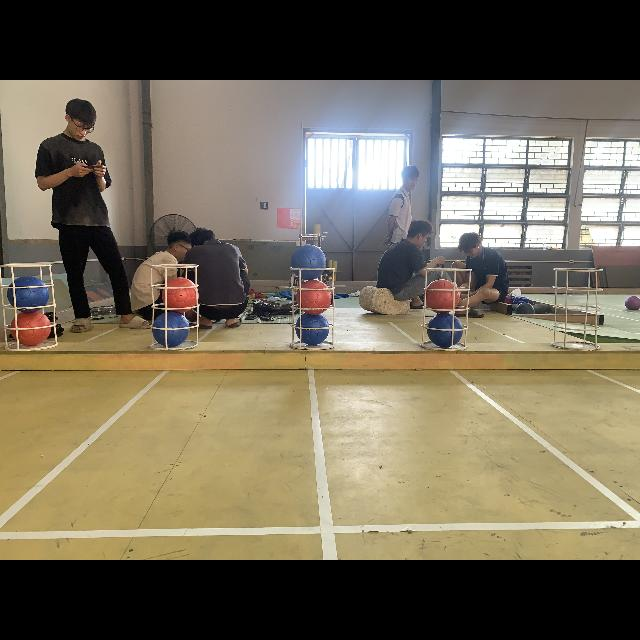B: (8, 275, 50, 311), (426, 313, 466, 347), (151, 314, 189, 348), (294, 312, 328, 348), (292, 244, 326, 278)
R: (162, 279, 200, 313), (13, 311, 49, 345), (298, 280, 332, 316), (426, 278, 462, 312)
